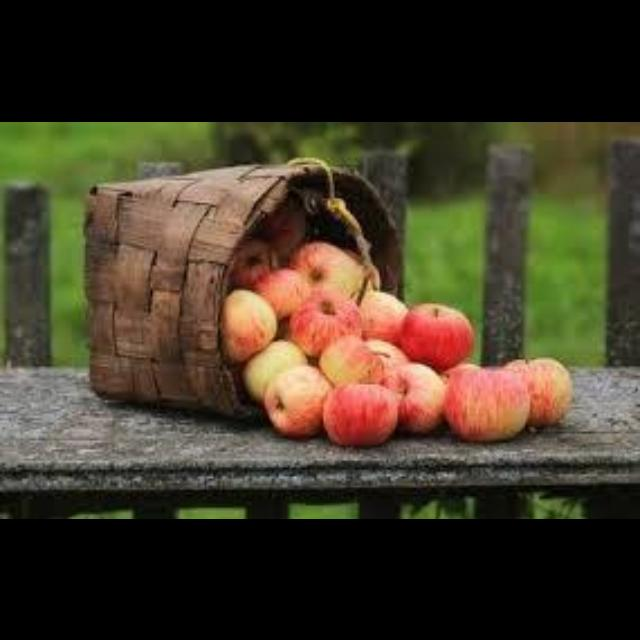apple: (445, 366, 528, 440), (400, 303, 472, 370), (263, 364, 330, 435), (287, 289, 359, 355), (323, 381, 397, 444), (505, 357, 570, 424), (384, 361, 445, 431), (287, 240, 362, 294), (220, 289, 276, 359), (243, 339, 305, 399), (319, 334, 382, 384), (254, 267, 310, 316), (359, 289, 406, 341), (364, 339, 406, 368)
